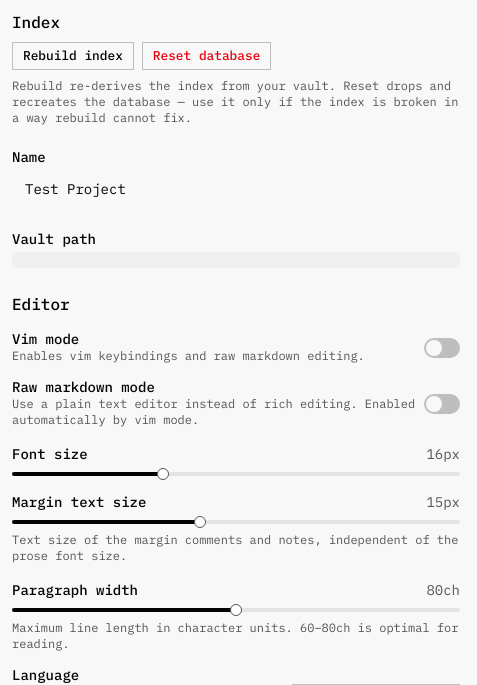
Test: GeneralTab › surfaces the server error message when a reset fails
Click the button "Reset database".
click(207, 56)  # box x1=142 y1=42 x2=271 y2=70
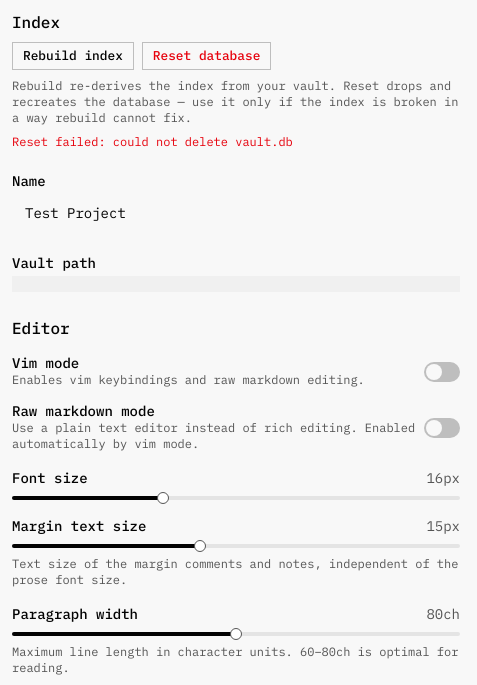
expect the text "Reset failed: could not delete vault.db" is shown: met, box x1=12 y1=134 x2=293 y2=149
